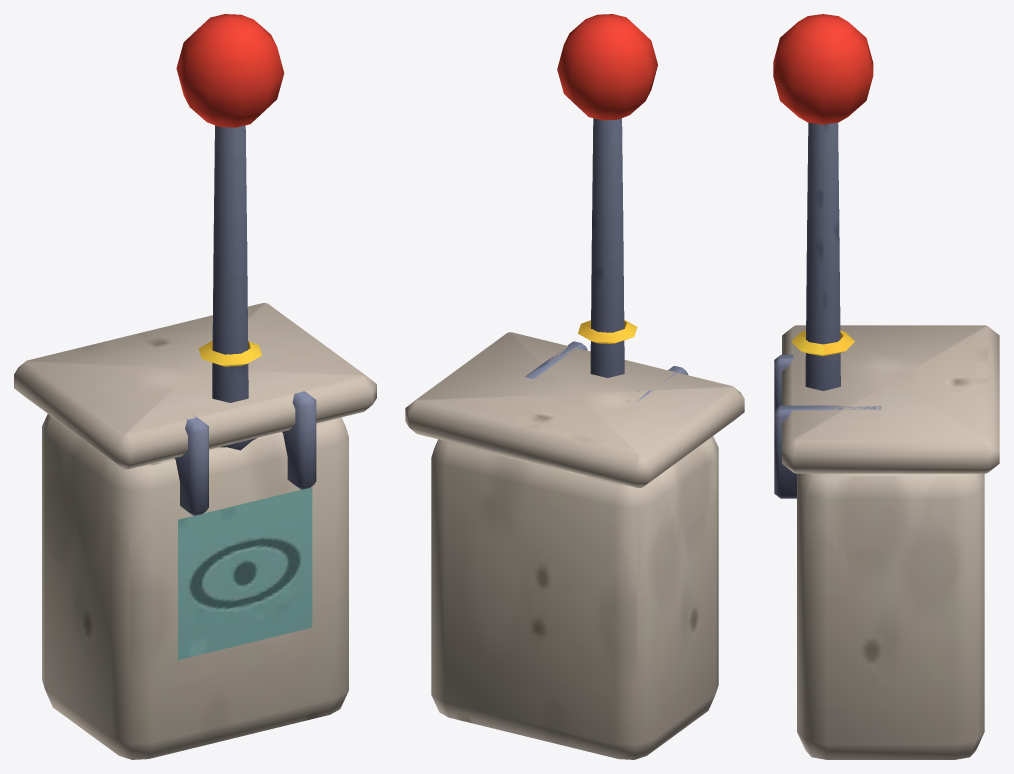
File: lever.glb
3 views of the same model, side by side, from view 1: azimuth 30°, elevation 25°; view 2: azimuth 150°, elevation 25°; view 3: azimuth 270°, elevation 25° (orthographic). The views are drawn at different scales.
Visible parts, largest first — view 1: lever, Arm; view 2: lever, Arm; view 3: lever, Arm.
Boxes of the visible parts, x1=… form: lever: x1=14, y1=303, x2=376, y2=759; Arm: x1=176, y1=14, x2=284, y2=450; lever: x1=405, y1=332, x2=744, y2=759; Arm: x1=557, y1=14, x2=657, y2=377; lever: x1=774, y1=325, x2=999, y2=759; Arm: x1=773, y1=14, x2=873, y2=390.
Bounding box in the file's own units: 0.78 × 2.05 × 0.6031.
Materials: 3 (3 with a texture image).
